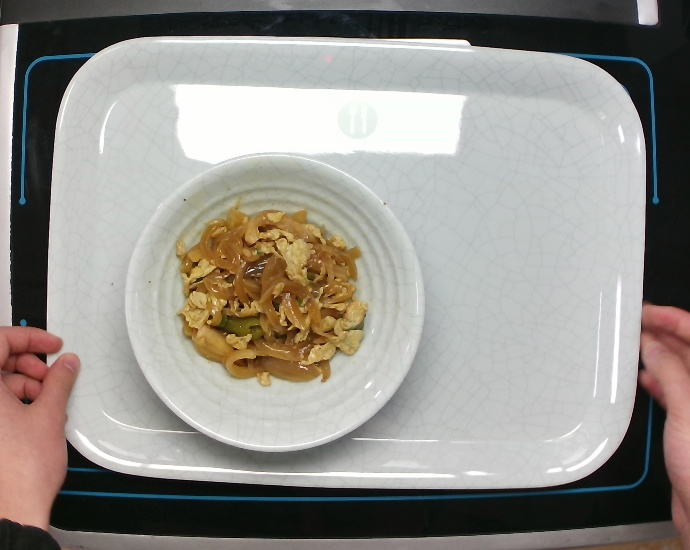JYsf-Xiao_Tang_Wan: (127, 154, 425, 459)
